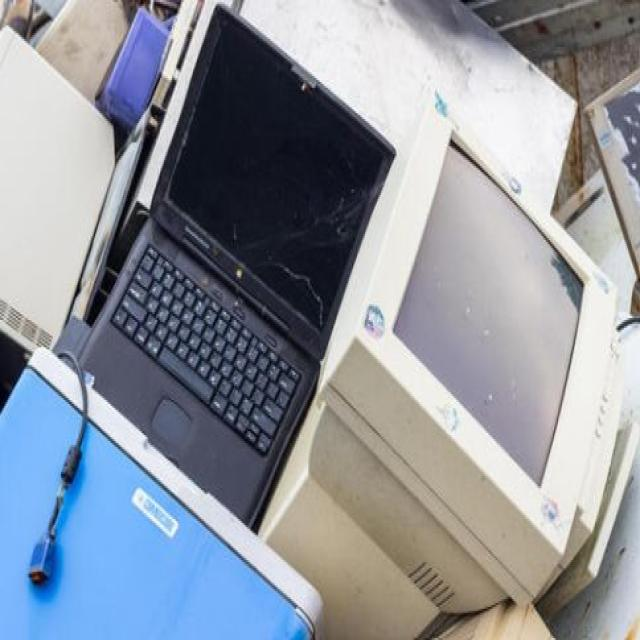electronic: (79, 0, 405, 595)
